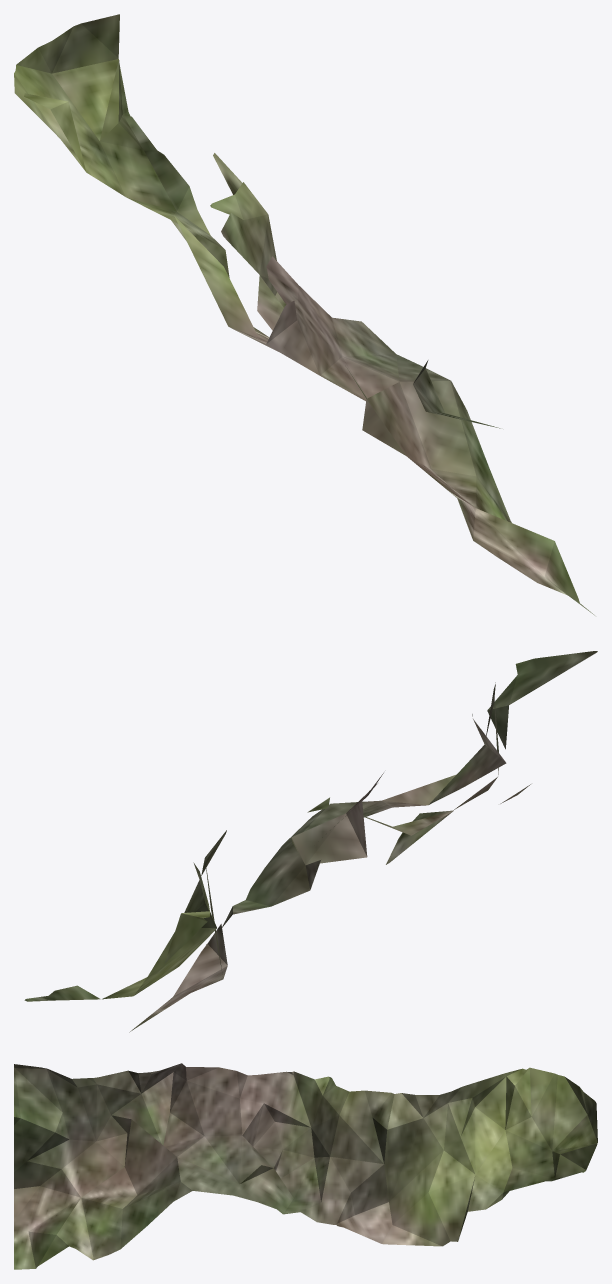
The picture shows the model from 3 angles, top to bottom: view 1: azimuth 30°, elevation 25°; view 2: azimuth 150°, elevation 25°; view 3: azimuth 270°, elevation 25°; orthographic projection. The views are drawn at different scales.
Bounding box in the file's own units: 0.8551 × 1.03 × 3.53.
Materials: 1 (1 with a texture image).
